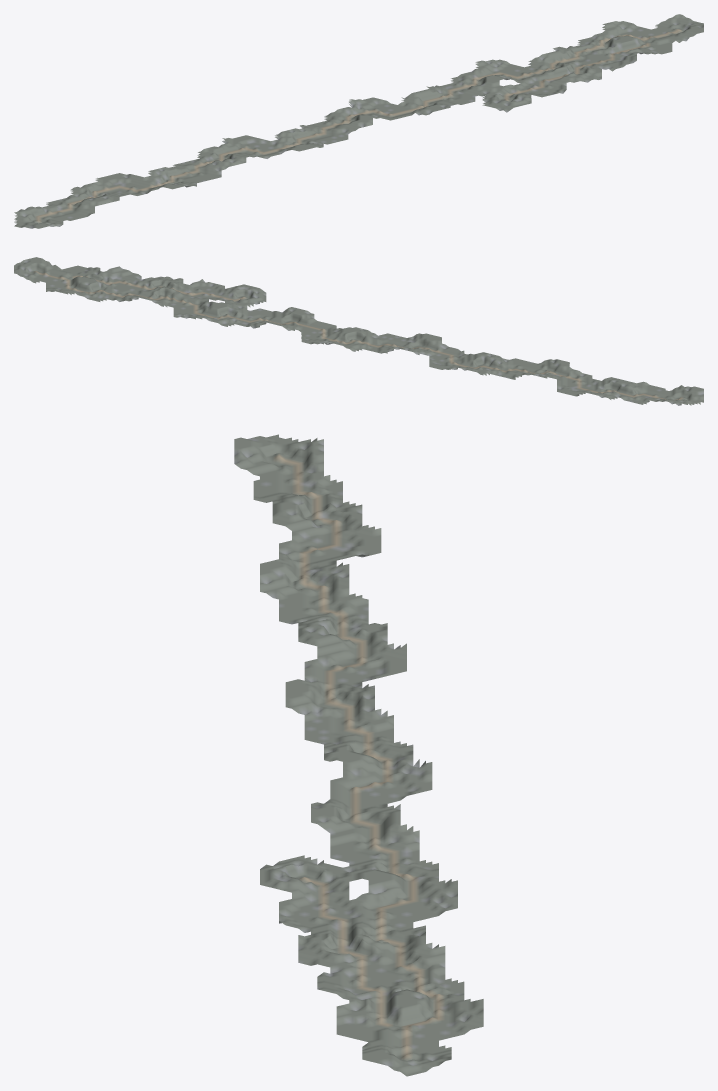
File: terrain.glb
The picture shows the model from 3 angles, top to bottom: view 1: azimuth 30°, elevation 25°; view 2: azimuth 150°, elevation 25°; view 3: azimuth 270°, elevation 25°; orthographic projection. The views are drawn at different scales.
Visible parts, largest first — view 1: NATURAL_14_-2, NATURAL_15_-2, NATURAL_3_-1, NATURAL_9_-2, NATURAL_4_-1, NATURAL_13_-2, NATURAL_11_-2, NATURAL_16_-2, NATURAL_2_-1, NATURAL_12_-1, NATURAL_12_-2, NATURAL_11_-1 (+17 smaller); view 2: NATURAL_15_-2, NATURAL_16_-2, NATURAL_1_-1, NATURAL_11_-1, NATURAL_2_-1, NATURAL_12_-2, NATURAL_6_-1, NATURAL_13_-2, NATURAL_11_-2, NATURAL_14_-2, NATURAL_4_-1, NATURAL_12_-1 (+17 smaller); view 3: NATURAL_12_-2, NATURAL_14_-2, NATURAL_15_-2, NATURAL_2_-1, NATURAL_9_-2, NATURAL_3_-1, NATURAL_11_-1, NATURAL_13_-2, NATURAL_6_-1, NATURAL_12_-1, NATURAL_4_-1, NATURAL_1_-1 (+18 smaller).
Part boxes in pixels (box(x1,y1,x2,y2)): NATURAL_14_-2: box(549, 45, 626, 66); NATURAL_15_-2: box(588, 35, 671, 55); NATURAL_3_-1: box(124, 167, 206, 187); NATURAL_9_-2: box(345, 97, 418, 116); NATURAL_4_-1: box(169, 159, 238, 180); NATURAL_13_-2: box(504, 53, 587, 75); NATURAL_11_-2: box(430, 77, 499, 98); NATURAL_16_-2: box(631, 24, 703, 46); NATURAL_2_-1: box(81, 179, 161, 196); NATURAL_12_-1: box(507, 76, 569, 96); NATURAL_12_-2: box(461, 66, 544, 83); NATURAL_11_-1: box(461, 85, 544, 105); NATURAL_15_-2: box(68, 268, 106, 294); NATURAL_16_-2: box(30, 257, 68, 285); NATURAL_1_-1: box(605, 378, 643, 404); NATURAL_11_-1: box(221, 285, 259, 314); NATURAL_2_-1: box(566, 366, 604, 395); NATURAL_12_-2: box(183, 294, 221, 323); NATURAL_6_-1: box(413, 333, 451, 361); NATURAL_13_-2: box(145, 285, 183, 314); NATURAL_11_-2: box(221, 302, 259, 328); NATURAL_14_-2: box(106, 276, 144, 299); NATURAL_4_-1: box(490, 353, 528, 376); NATURAL_12_-1: box(183, 279, 221, 300); NATURAL_12_-2: box(355, 869, 432, 923); NATURAL_14_-2: box(355, 938, 432, 999); NATURAL_15_-2: box(355, 980, 432, 1038); NATURAL_2_-1: box(279, 509, 355, 567); NATURAL_9_-2: box(355, 757, 432, 814); NATURAL_3_-1: box(279, 550, 355, 608); NATURAL_11_-1: box(279, 852, 355, 904); NATURAL_13_-2: box(355, 908, 432, 961); NATURAL_6_-1: box(285, 665, 355, 714); NATURAL_12_-1: box(279, 885, 355, 934); NATURAL_4_-1: box(279, 586, 355, 634); NATURAL_1_-1: box(279, 481, 355, 526).
Bounding box in the file's own units: 385 × 2.9 × 63.18.
